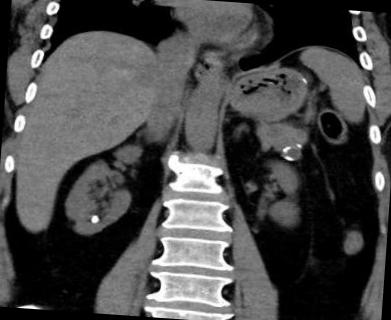Tas_Var: (88, 213, 100, 226)
